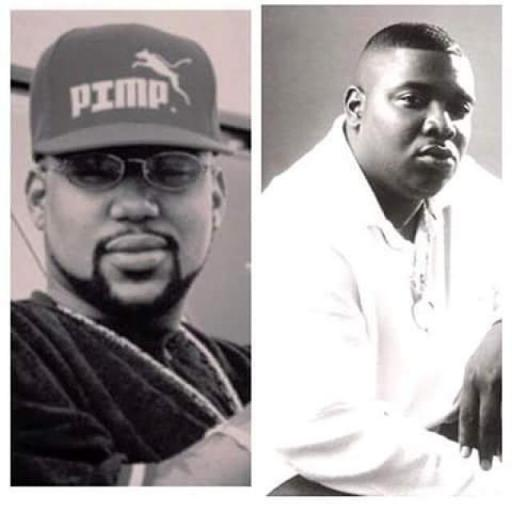Puma: (133, 44, 196, 106)
